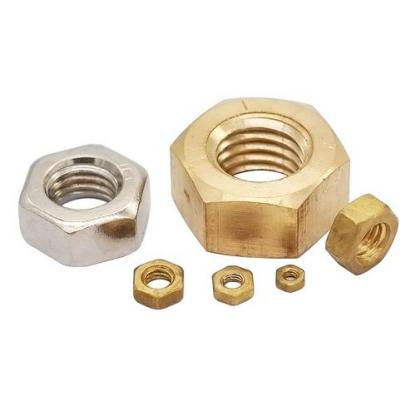FOD: (168, 96, 352, 260), (16, 142, 152, 269), (322, 192, 400, 276), (131, 256, 185, 309), (211, 263, 255, 308), (272, 264, 308, 293)
